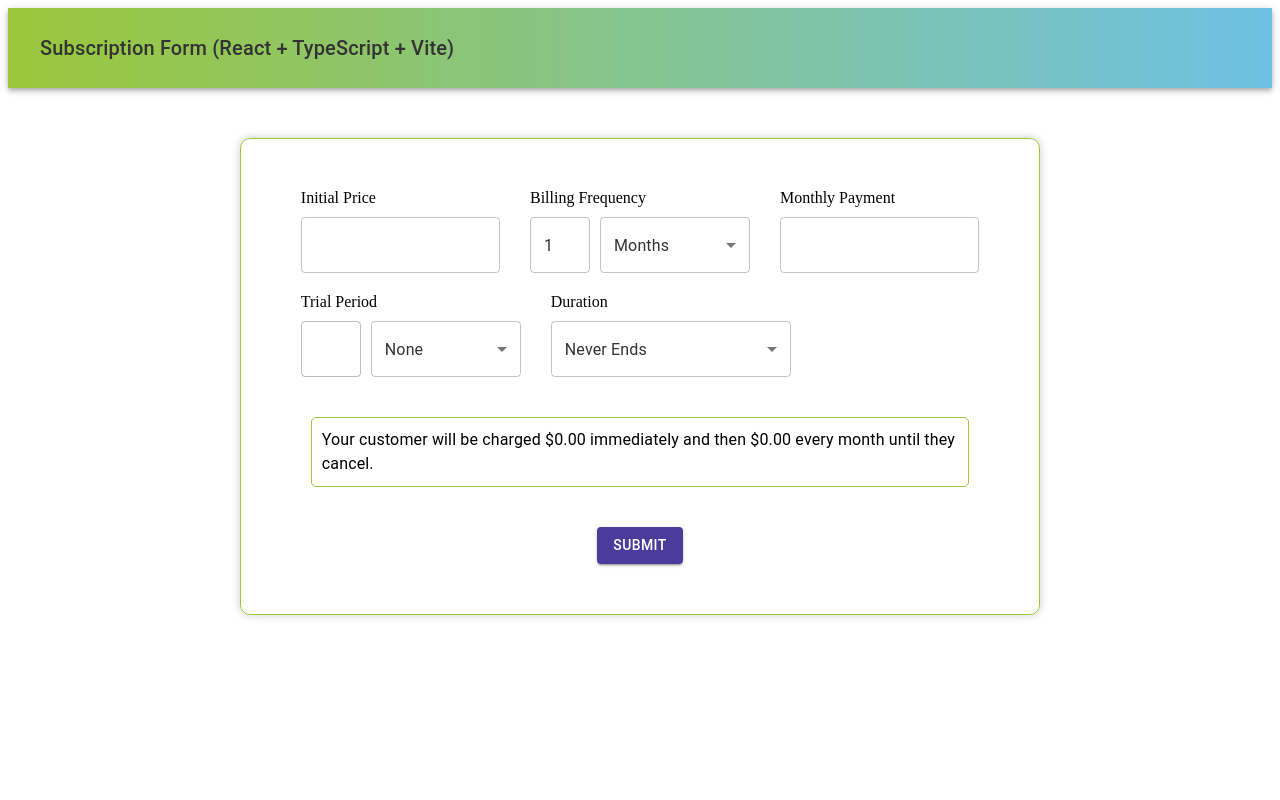
it: Form Component › should make the Billing Cycles field visible when Duration is set to Customize
The width and height of the screenshot is (1280, 800).
Click the element with test id "duration": (671, 349) top-left (551, 321), bottom-right (791, 377)
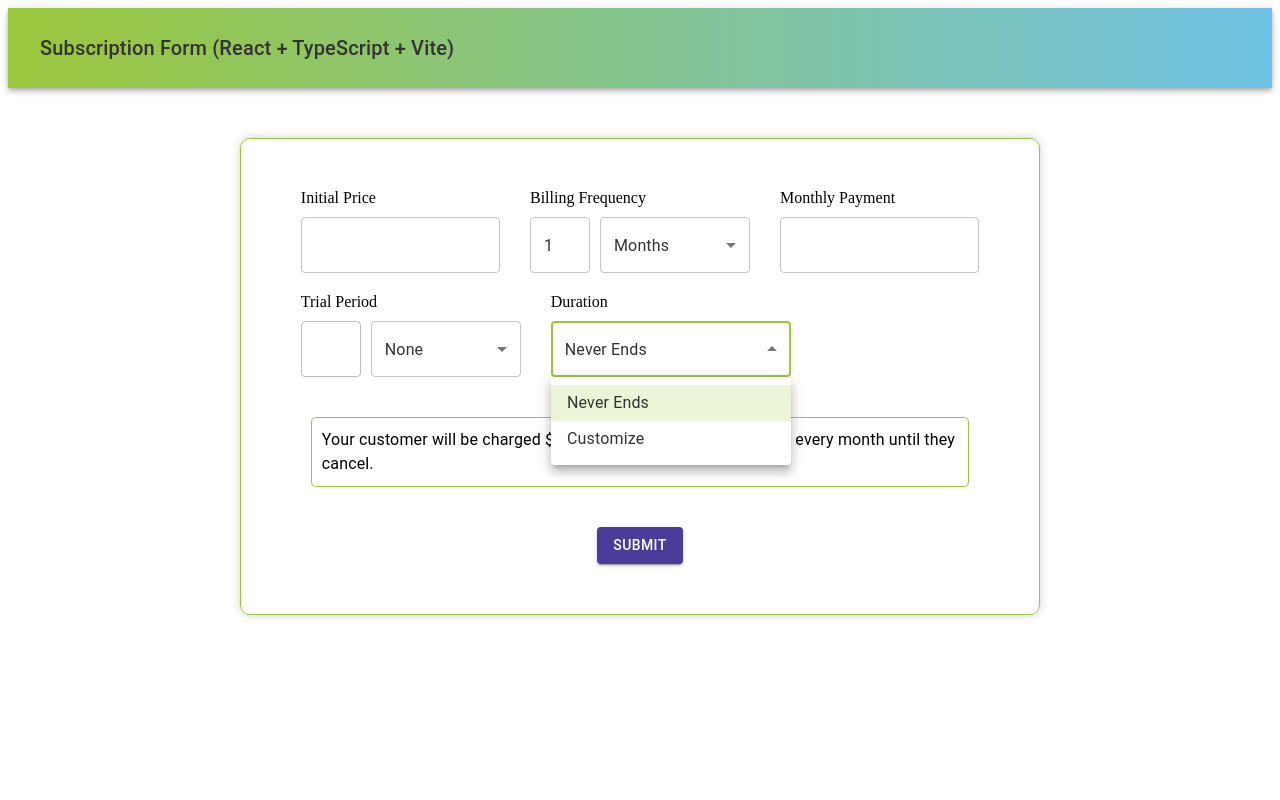
Click the option with test id "customize": (606, 439) top-left (567, 429), bottom-right (644, 448)
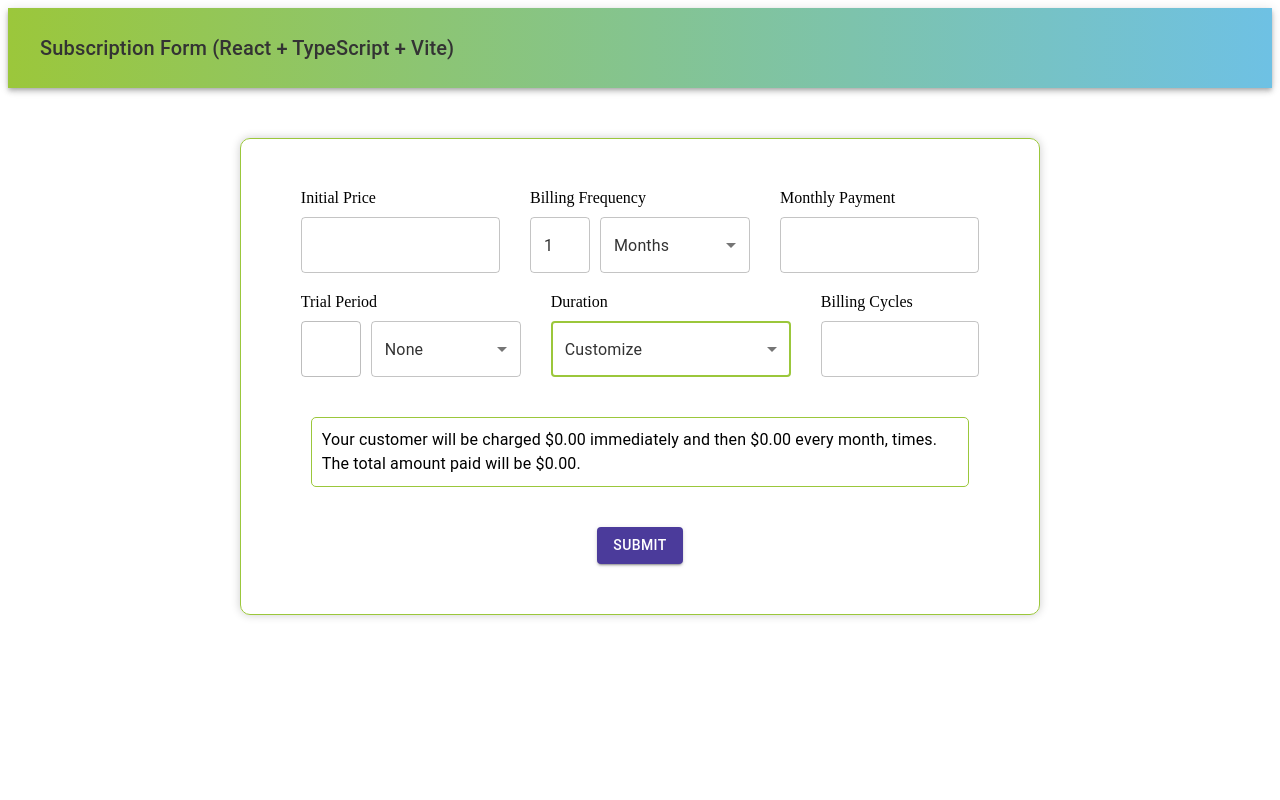
Expected: the number field with test id "billingCycles" is shown, top-left (821, 321), bottom-right (979, 377)
